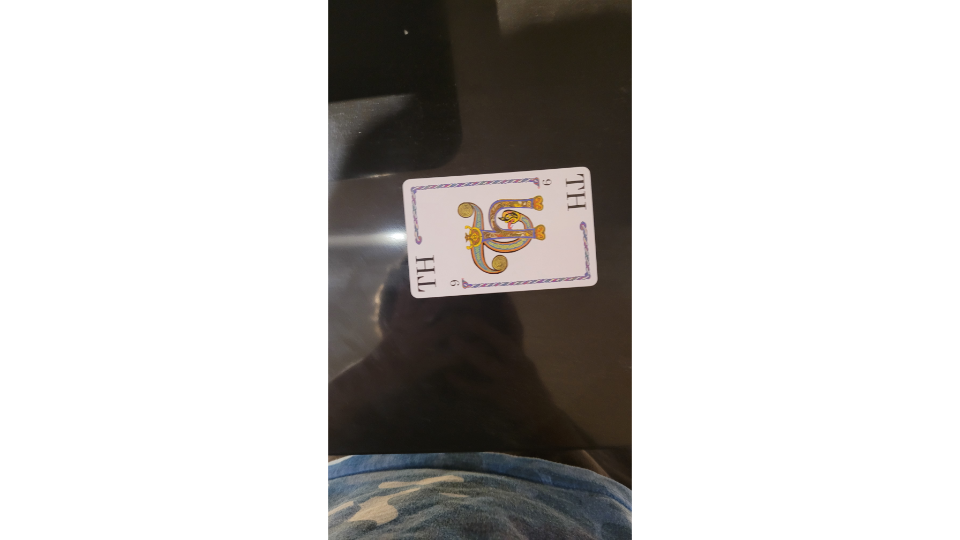TH: (400, 164, 603, 300)
